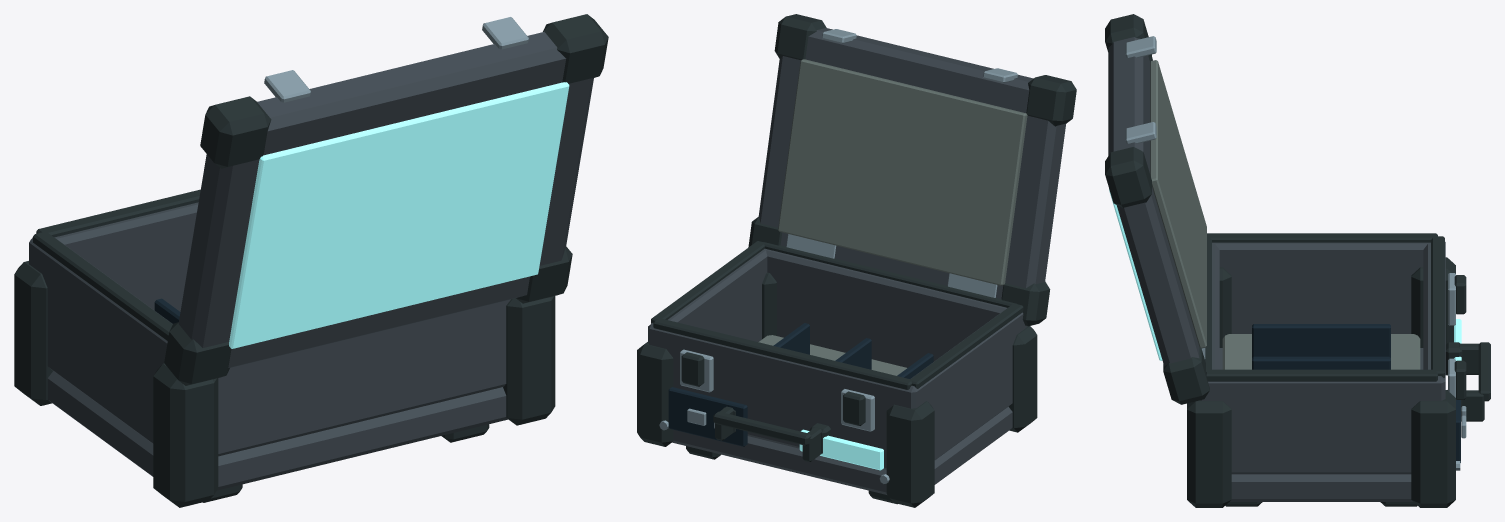
Rendered from encrypted_electronics_case_opened.glb.
3 views of the same model, side by side, from view 1: azimuth 30°, elevation 25°; view 2: azimuth 150°, elevation 25°; view 3: azimuth 270°, elevation 25° (orthographic). The views are drawn at different scales.
Visible parts, largest first — view 1: moving_lid_inset, moving_lid_shell, body_back_wall, corner_guard (×3), body_floor, body_left_wall, moving_lid_corner (×4), body_front_wall, gasket_side, moving_latch_hook (×2), gasket_front; view 2: moving_lid_inner_pad, moving_lid_shell, body_back_wall, body_front_wall, corner_guard (×4), body_left_wall, body_floor, moving_lid_corner (×4), body_right_wall, gasket_side (×2), gasket_front, port_bank (+9 smaller); view 3: body_right_wall, body_left_wall, corner_guard (×4), moving_lid_shell, moving_lid_inner_pad, storage_slot_divider (×2), body_floor, gasket_side (×2), moving_lid_corner (×3), interior_lining, gasket_front, body_front_wall (+8 smaller).
Boxes of the visible parts, x1,y1,x2,y2 form: moving_lid_inset: [229, 82, 569, 348]; moving_lid_shell: [178, 31, 593, 367]; body_back_wall: [218, 299, 510, 456]; corner_guard (×3): [14, 261, 555, 507]; body_floor: [47, 371, 508, 490]; body_left_wall: [29, 237, 172, 443]; moving_lid_corner (×4): [164, 14, 608, 385]; body_front_wall: [29, 202, 198, 311]; gasket_side: [33, 231, 172, 340]; moving_latch_hook (×2): [264, 17, 528, 102]; gasket_front: [36, 189, 200, 237]; moving_lid_inner_pad: [778, 59, 1027, 285]; moving_lid_shell: [758, 28, 1065, 298]; body_back_wall: [764, 249, 1026, 367]; body_front_wall: [649, 323, 922, 469]; corner_guard (×4): [637, 272, 1037, 507]; body_left_wall: [900, 309, 1026, 459]; body_floor: [672, 406, 1012, 494]; moving_lid_corner (×4): [748, 14, 1076, 326]; body_right_wall: [648, 248, 767, 344]; gasket_side (×2): [651, 241, 1023, 388]; gasket_front: [653, 318, 911, 389]; port_bank: [668, 387, 747, 446]; body_right_wall: [1200, 375, 1445, 474]; body_left_wall: [1212, 242, 1445, 333]; corner_guard (×4): [1187, 257, 1455, 507]; moving_lid_shell: [1108, 37, 1199, 366]; moving_lid_inner_pad: [1150, 60, 1206, 348]; storage_slot_divider (×2): [1252, 324, 1390, 369]; body_floor: [1219, 348, 1423, 501]; gasket_side (×2): [1206, 233, 1437, 381]; moving_lid_corner (×3): [1105, 14, 1209, 404]; interior_lining: [1222, 334, 1420, 369]; gasket_front: [1431, 236, 1444, 377]; body_front_wall: [1423, 243, 1445, 400].
Size of the model in its own units: 1.05 by 1.17 by 1.12.
